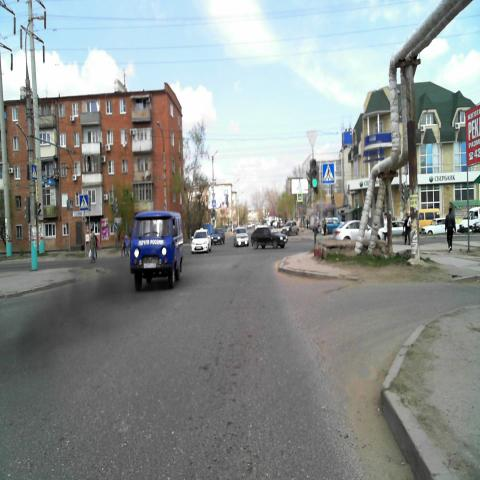5_19_1: (80, 194, 89, 209)
